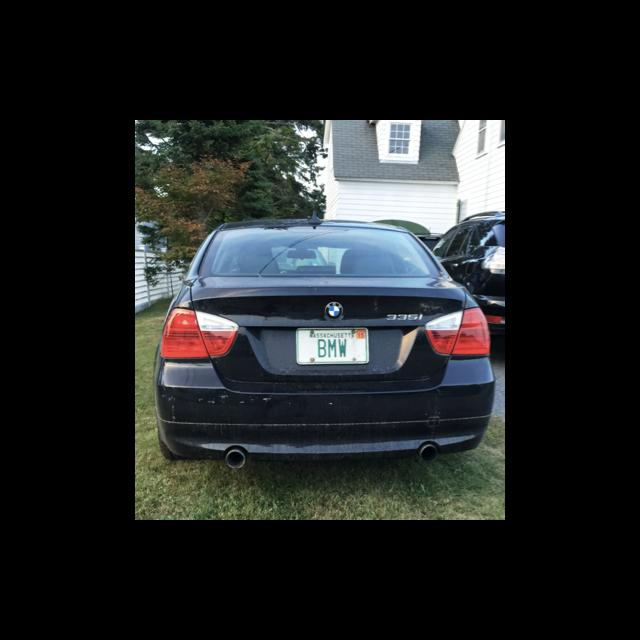Plate: (294, 326, 369, 365)
